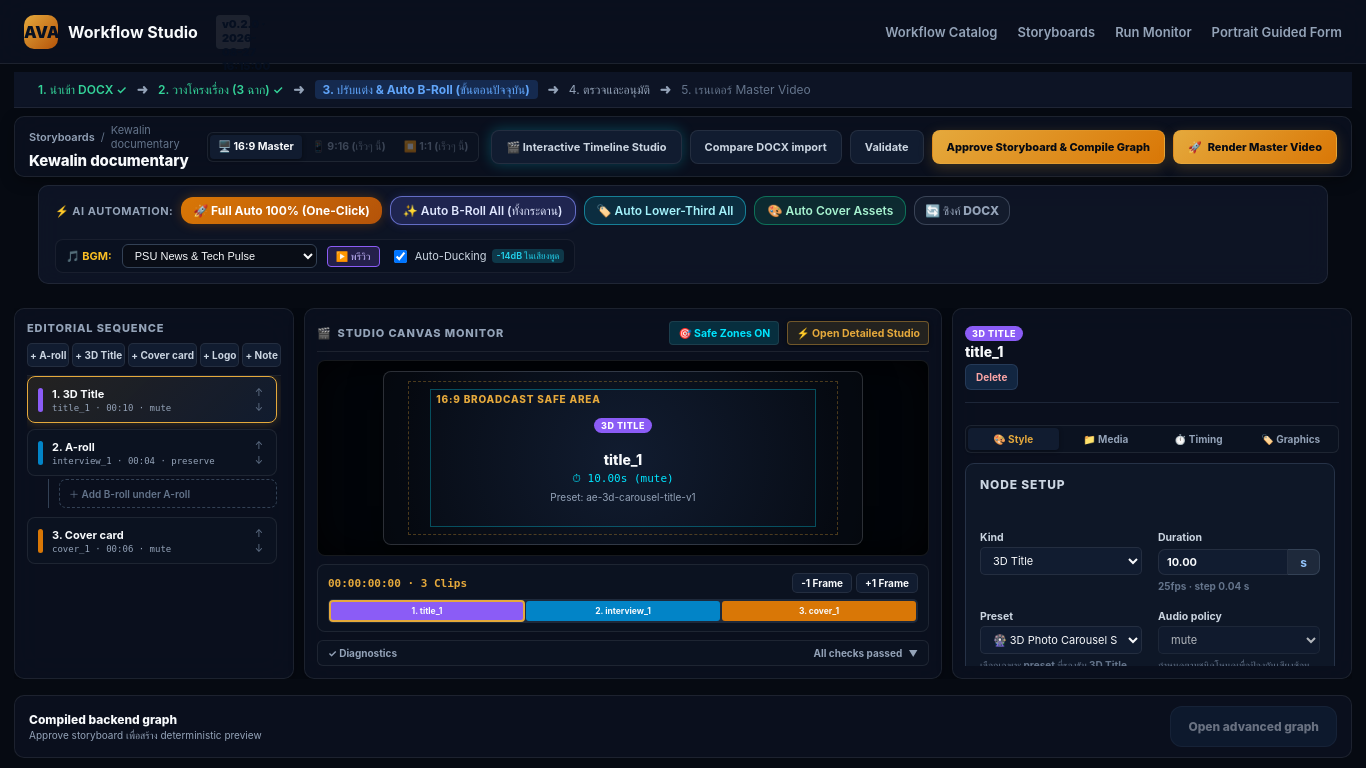
Scenario: shows B-roll as a selectable child of A-roll in editorial order
The image size is (1366, 768).
Click the button "＋ Add B-roll under A-roll" at {"x": 168, "y": 494}, box [59,479,277,508]
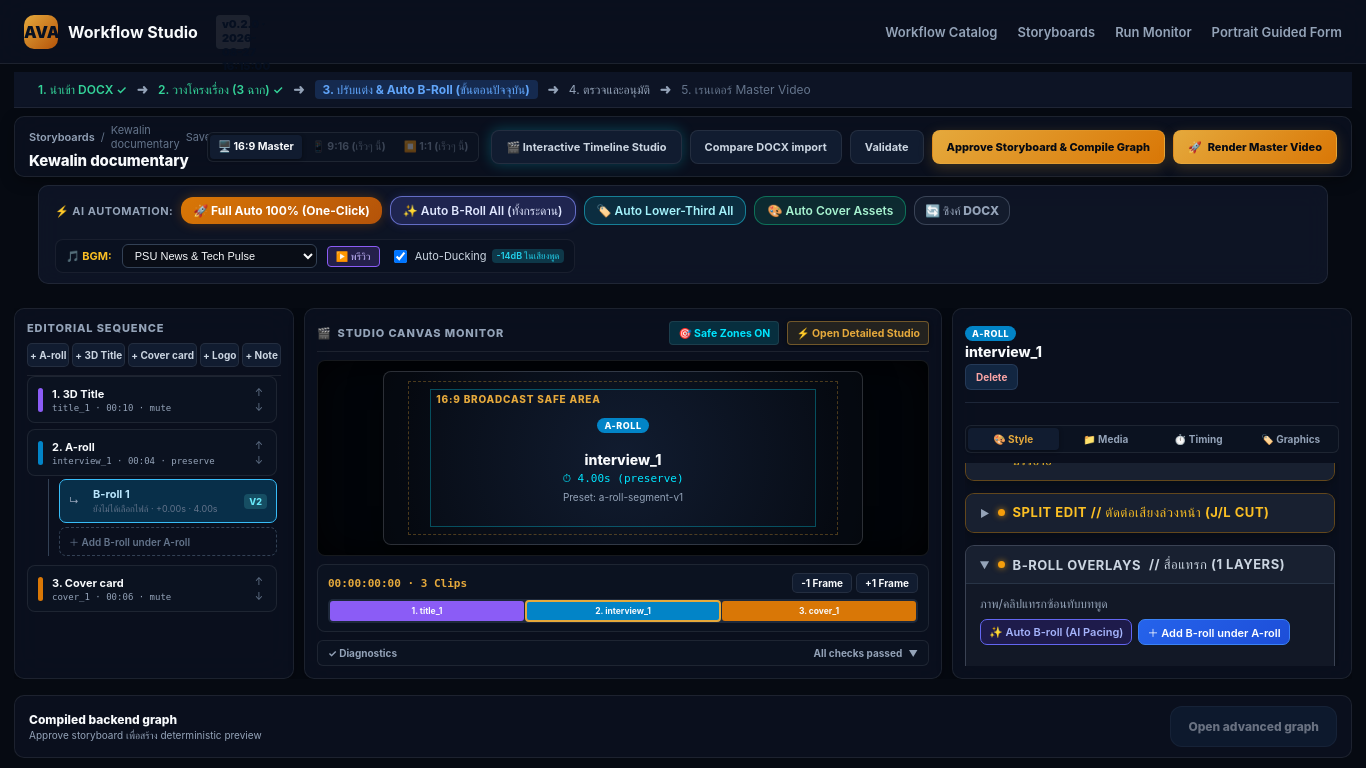
Expected: the button "↳ B-roll 1 ยังไม่ได้เลือกไฟล์ · +0.00s · 4.00s V2" is shown, [59,479,277,523]
Expected: the text "B-roll overlays" is shown, [1012,557,1141,573]
